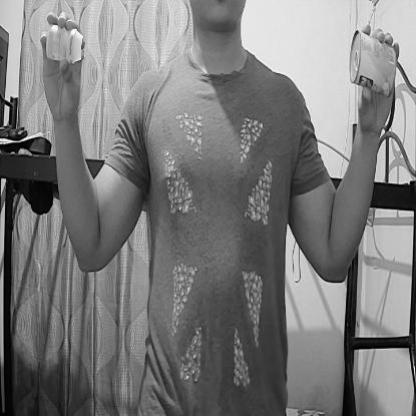Can: (349, 30, 399, 96)
Others: (46, 26, 86, 64)
